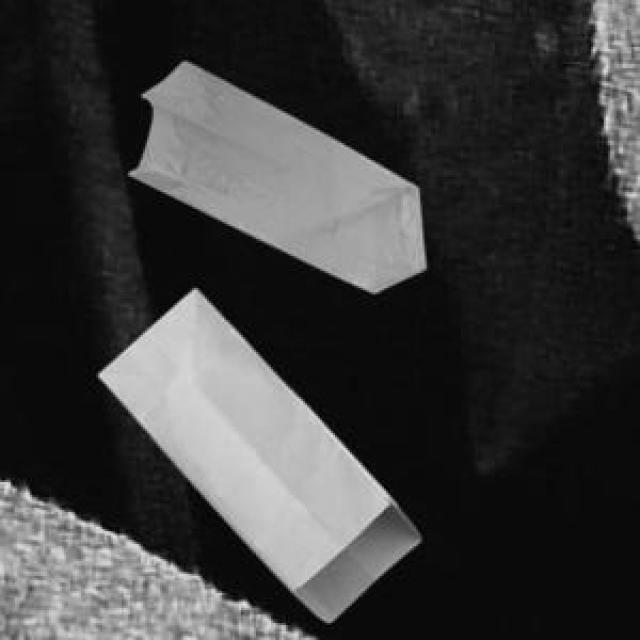paper: (94, 286, 416, 619)
